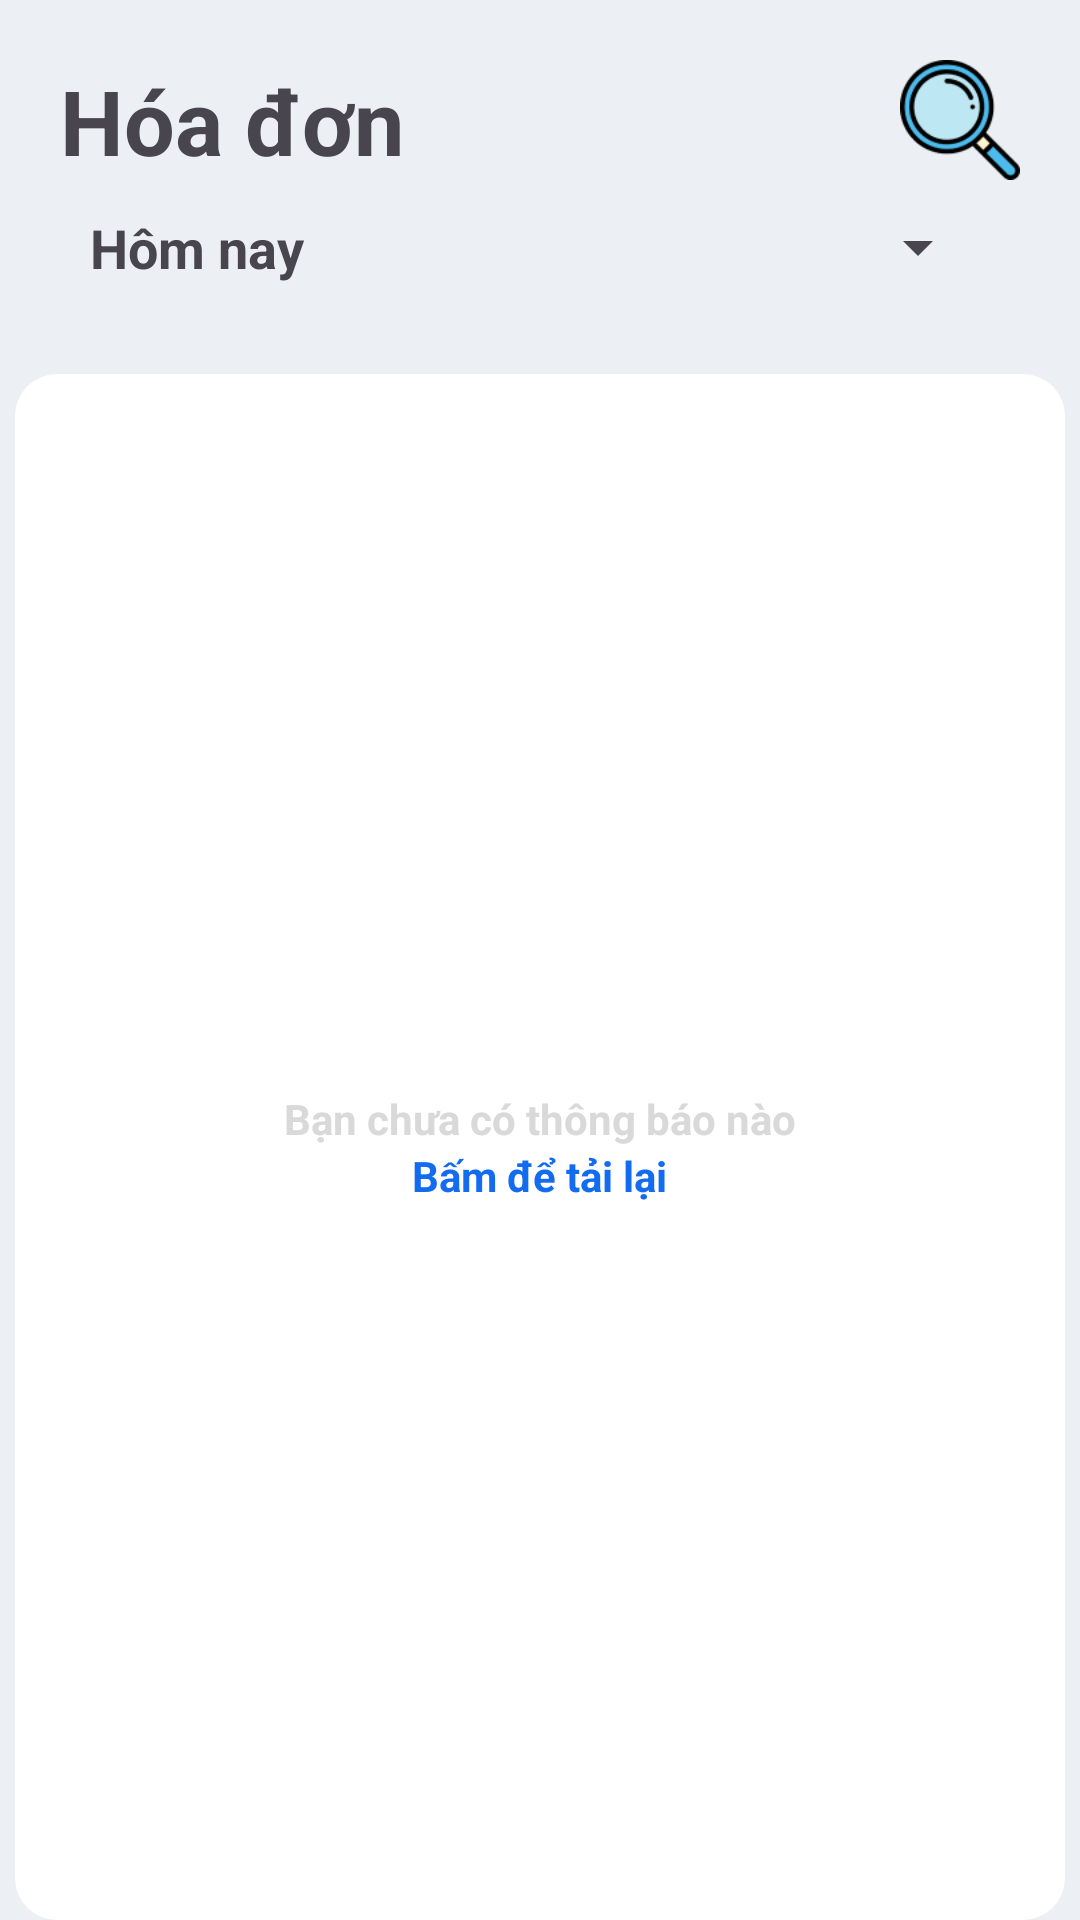

Named icons in this screenshot (1080px x 1920px) and their bounding boxes, (x1, y1, x2, y2):
sreach: (900, 60, 1020, 180)
